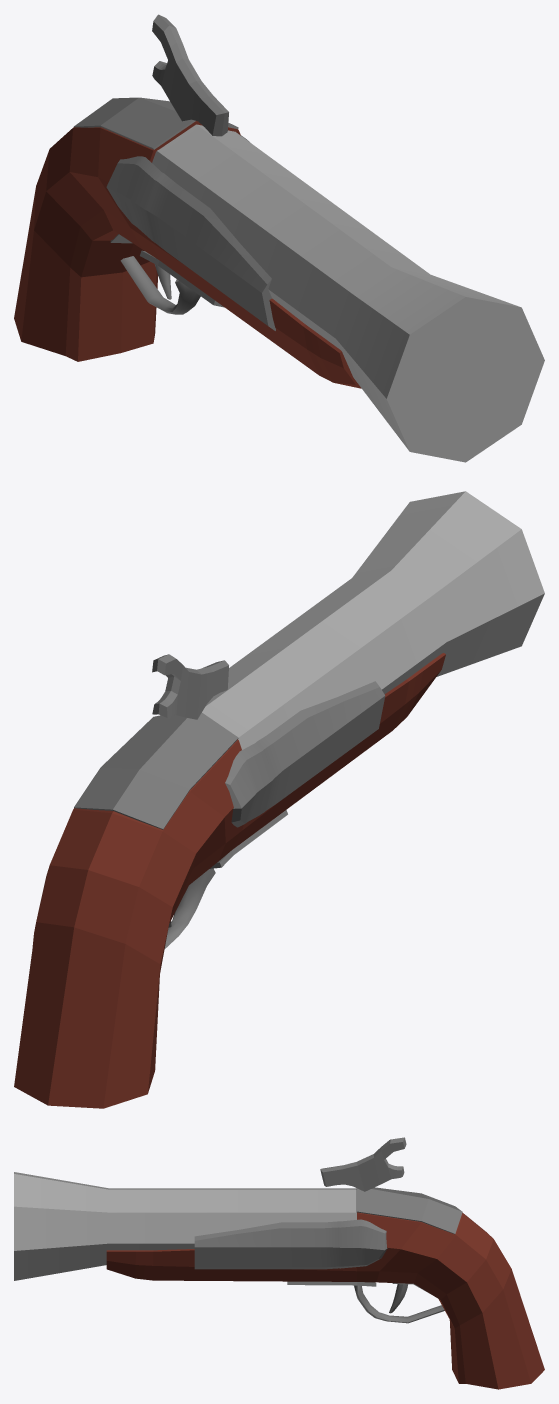
Rendered from Bacamarte.fbx.
3 views of the same model, one above another, from view 1: azimuth 30°, elevation 25°; view 2: azimuth 150°, elevation 25°; view 3: azimuth 270°, elevation 25° (orthographic). The views are drawn at different scales.
Visible parts, largest first — view 1: Cylinder, Cylinder.001, Plane, Cube, Cylinder.006, Cylinder.005, Cylinder.002; view 2: Cylinder.001, Cylinder, Plane, Cylinder.006, Cube, Cylinder.005; view 3: Cylinder.001, Cylinder, Plane, Cylinder.006, Cube, Cylinder.005, Cylinder.002.
Boxes of the visible parts, box(x1,y1,x2,y2) form: Cylinder: box(152, 124, 544, 462); Cylinder.001: box(14, 121, 361, 388); Plane: box(106, 135, 275, 330); Cube: box(152, 14, 228, 136); Cylinder.006: box(74, 97, 238, 149); Cylinder.005: box(120, 256, 200, 314); Cylinder.002: box(140, 250, 224, 307); Cylinder.001: box(14, 653, 445, 1108); Cylinder: box(202, 491, 544, 749); Plane: box(225, 681, 385, 827); Cylinder.006: box(74, 713, 238, 829); Cube: box(152, 654, 228, 719); Cylinder.005: box(164, 868, 215, 948); Cylinder.001: box(106, 1212, 544, 1389); Cylinder: box(14, 1172, 356, 1280); Plane: box(194, 1219, 387, 1269); Cylinder.006: box(356, 1187, 462, 1234); Cube: box(320, 1137, 406, 1191); Cylinder.005: box(354, 1285, 444, 1323); Cylinder.002: box(287, 1281, 376, 1286).
Size of the model in its own units: 285 by 636 by 1304.
